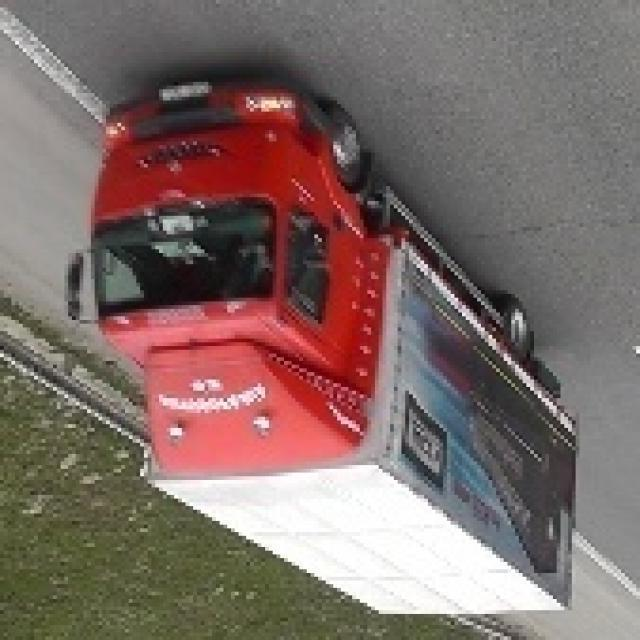truck: (68, 67, 580, 629)
